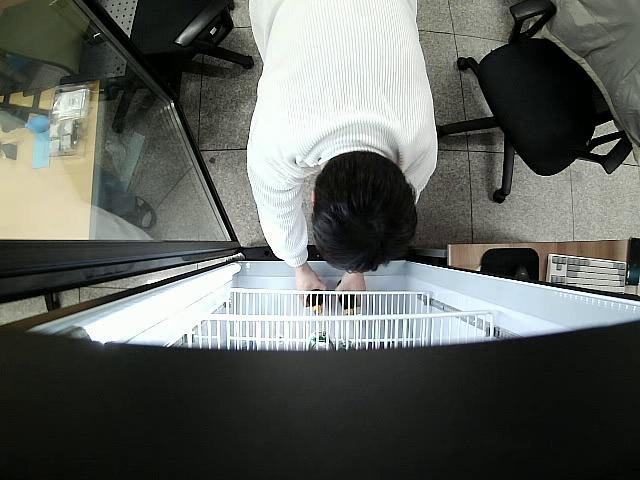17_vita500: (308, 288, 324, 316), (342, 293, 356, 314)
